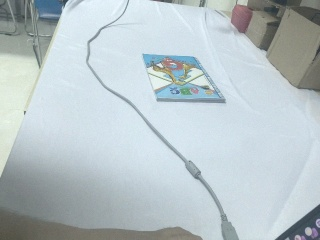book: (140, 53, 229, 106)
box: (266, 3, 320, 95), (245, 2, 287, 51)
